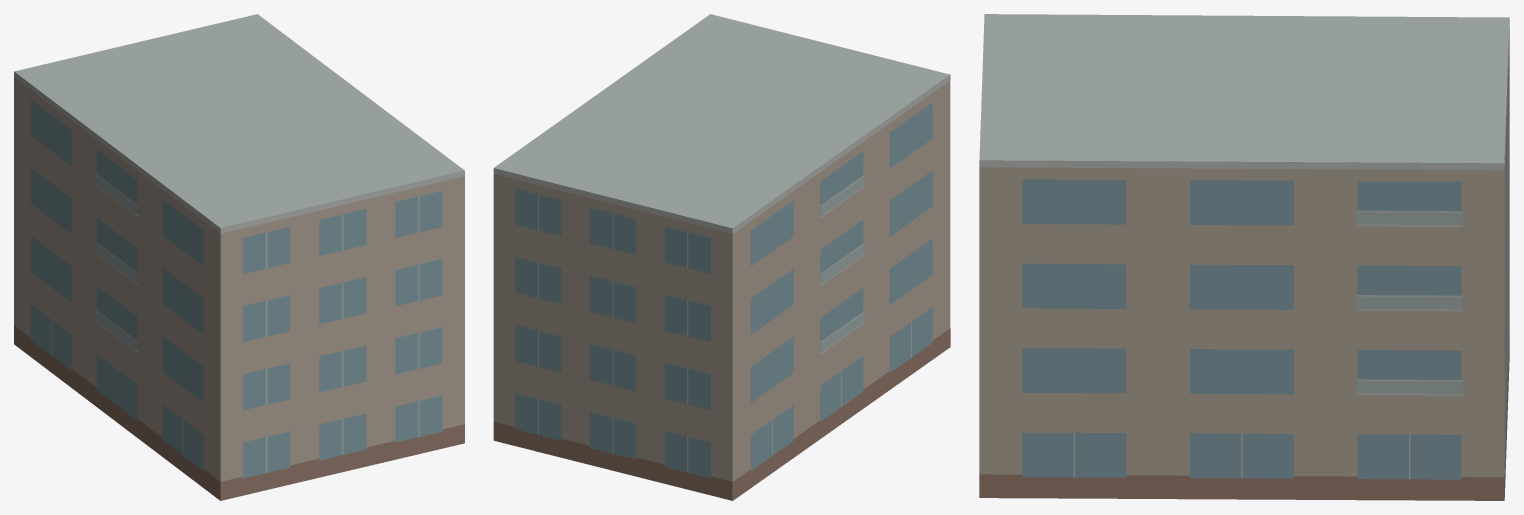
Rendered from survey-upis-32744010.glb.
The picture shows the model from 3 angles, left to right: view 1: azimuth 30°, elevation 25°; view 2: azimuth 150°, elevation 25°; view 3: azimuth 270°, elevation 25°; orthographic projection. The views are drawn at different scales.
Visible parts, largest first — view 1: survey-upis-32744010.tmp; view 2: survey-upis-32744010.tmp; view 3: survey-upis-32744010.tmp.
Boxes of the visible parts, <box> form: survey-upis-32744010.tmp: <box>14,14,464,500</box>; survey-upis-32744010.tmp: <box>493,14,950,500</box>; survey-upis-32744010.tmp: <box>979,14,1509,500</box>.
Size of the model in its own units: 11.21 by 11.8 by 16.8.
